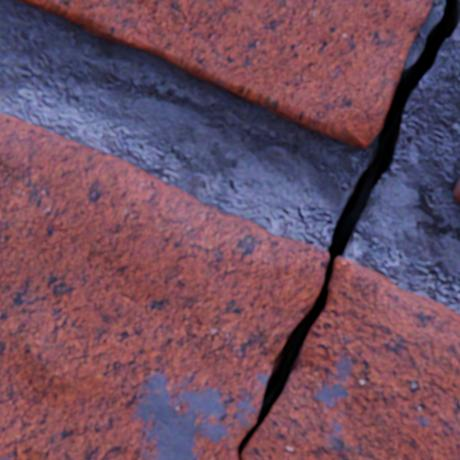brick: (17, 0, 432, 150), (453, 179, 459, 202)
broken_brick: (0, 113, 328, 459), (242, 257, 459, 459)
crack: (238, 0, 459, 459)
